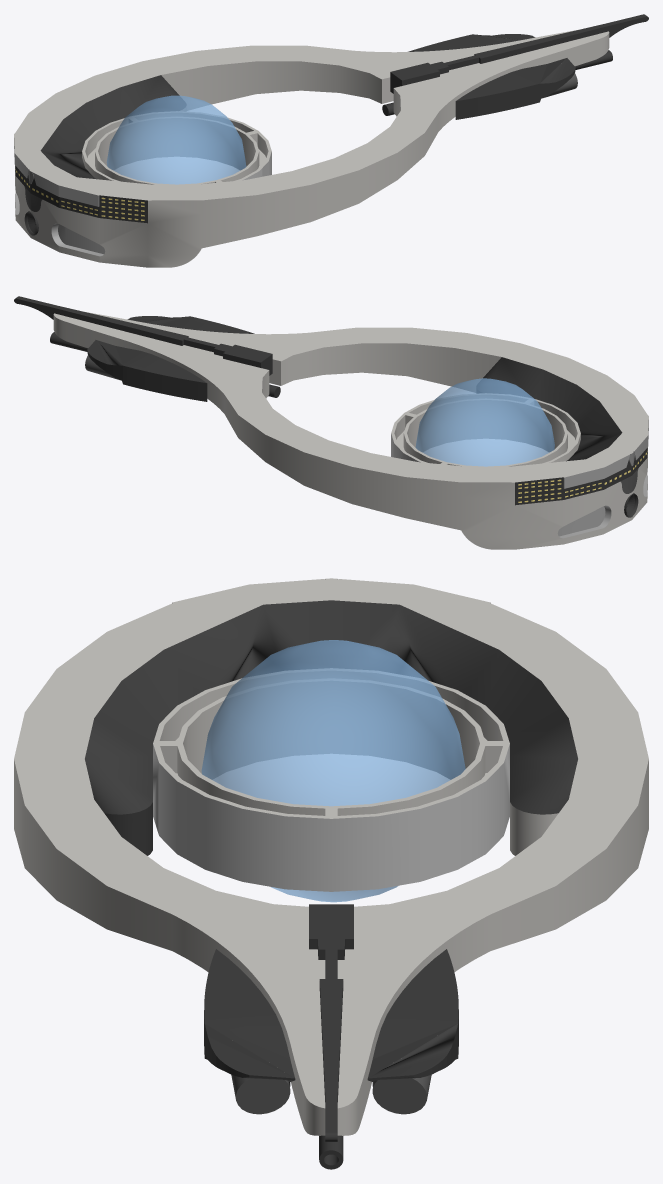
The model's file is Ori Mothership.fbx.
3 renders of one model, top to bottom at view 1: azimuth 30°, elevation 25°; view 2: azimuth 150°, elevation 25°; view 3: azimuth 270°, elevation 25°, orthographic. The views are drawn at different scales.
Parts seen in each view (by area): view 1: ske1_1; view 2: ske1_1; view 3: ske1_1.
Part boxes in pixels (box(x1,y1,x2,y2)): ske1_1: box(14, 14, 648, 267); ske1_1: box(14, 296, 648, 549); ske1_1: box(14, 578, 648, 1169).
Size of the model in its own units: 32480 by 6404 by 15373.
